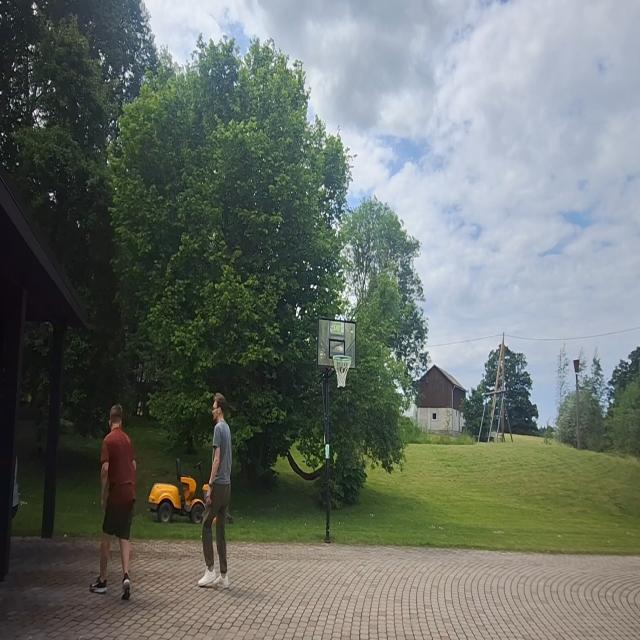basket: (333, 352, 353, 391)
player: (90, 402, 136, 603), (197, 388, 233, 594)
